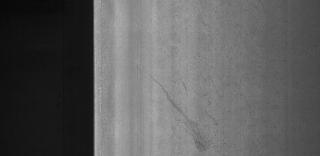silk spot: (175, 5, 281, 98)
water spot: (147, 74, 223, 156)
